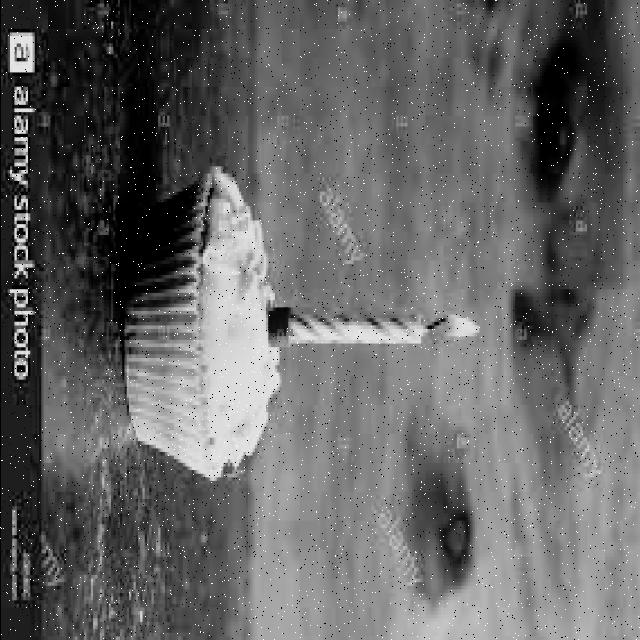api: (423, 290, 488, 352)
